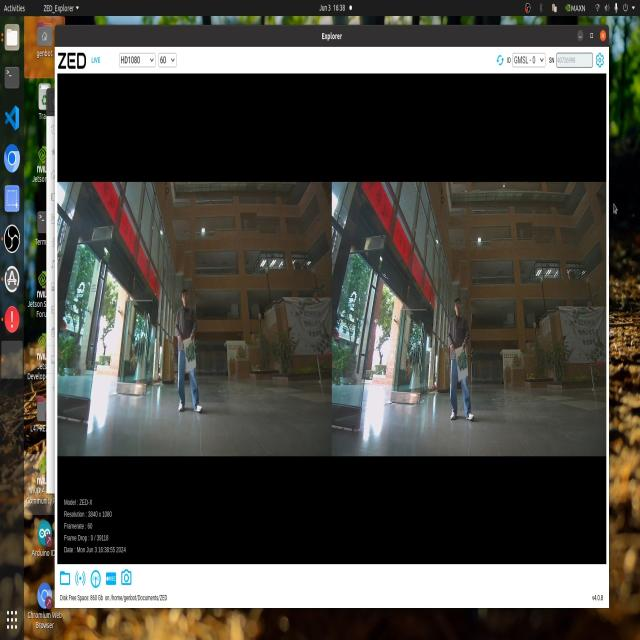green: (182, 337, 197, 372), (456, 353, 469, 375)
